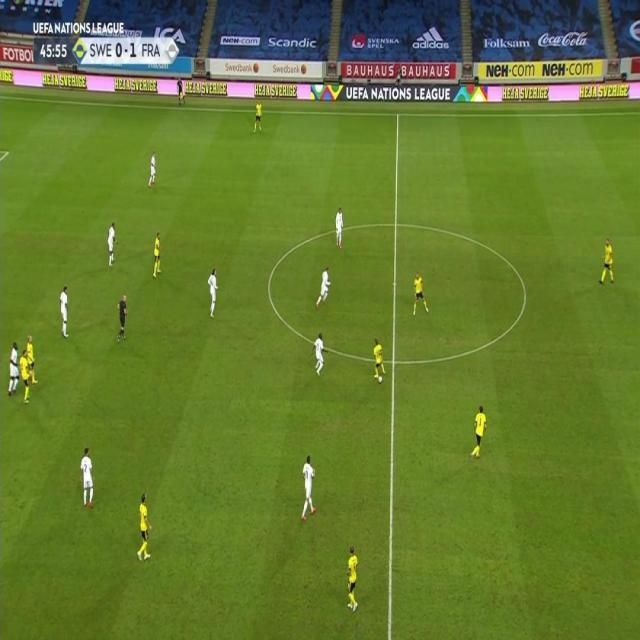ball: (378, 375, 384, 385)
player: (299, 454, 318, 521), (136, 493, 153, 563), (78, 446, 96, 510), (469, 404, 489, 461), (345, 544, 361, 614), (6, 341, 22, 397), (411, 271, 430, 317), (599, 236, 616, 285), (372, 337, 388, 385), (311, 332, 327, 378), (58, 284, 71, 339), (315, 267, 332, 308), (206, 267, 219, 318), (19, 351, 31, 403), (106, 221, 118, 267), (26, 331, 36, 382), (153, 230, 163, 277), (335, 206, 345, 249), (253, 99, 264, 133), (148, 150, 157, 188)
referee: (116, 292, 129, 343), (176, 77, 187, 107)
